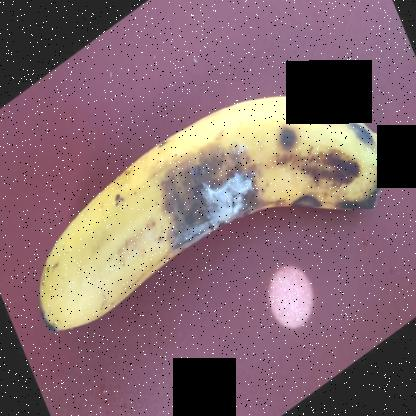overripe: (27, 72, 398, 339)
